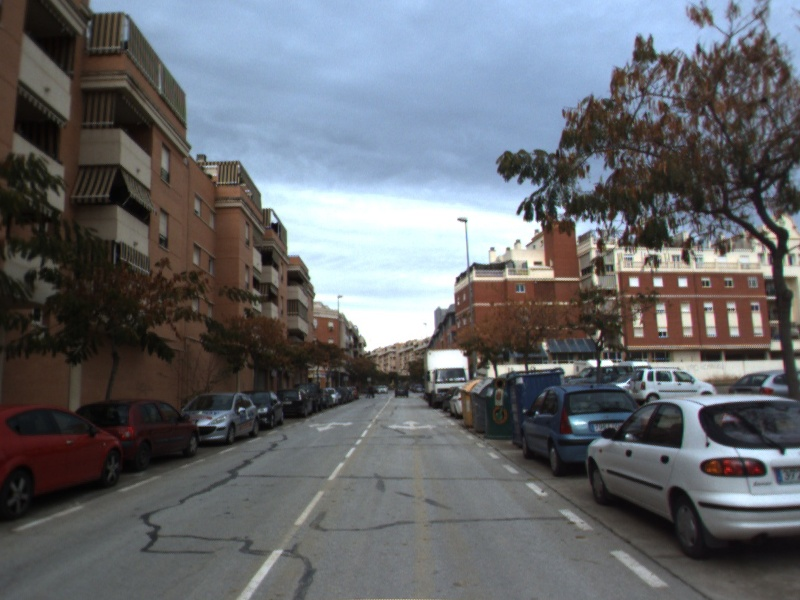STRAIGHT_LEFT_RIGHT: (386, 418, 439, 432)
